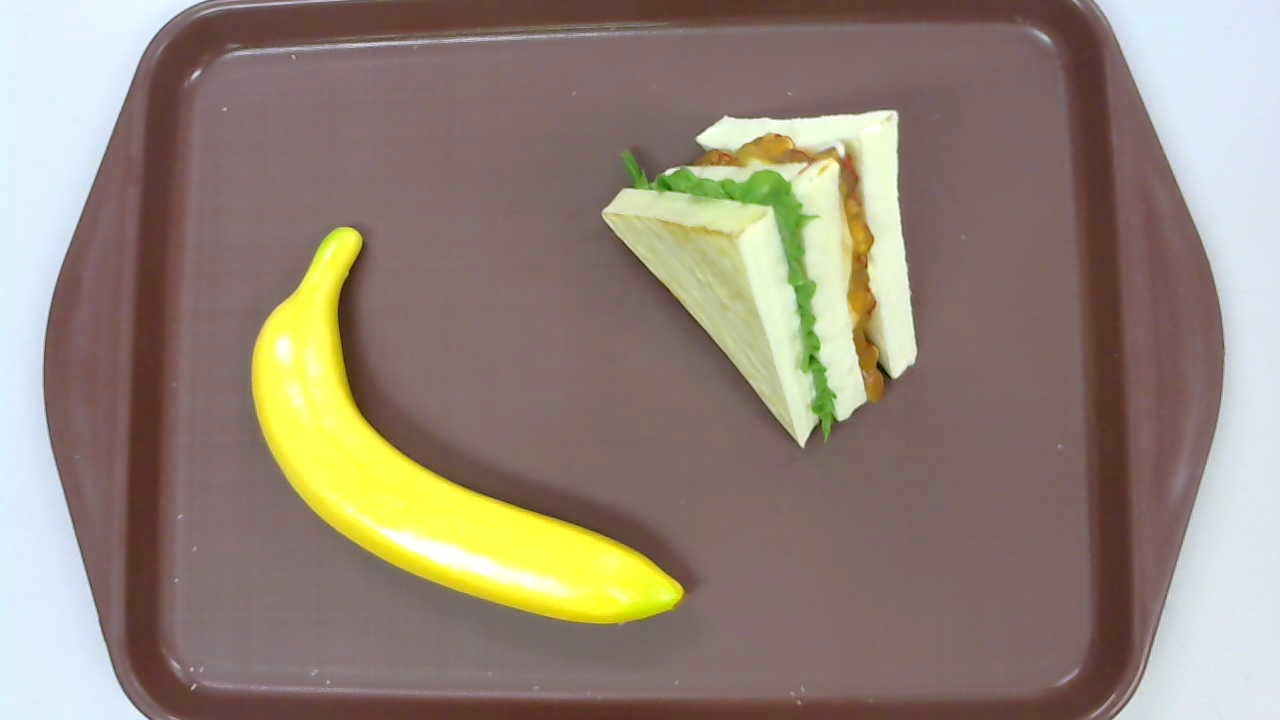banana: (250, 226, 685, 626)
sandwich: (601, 109, 919, 450)
